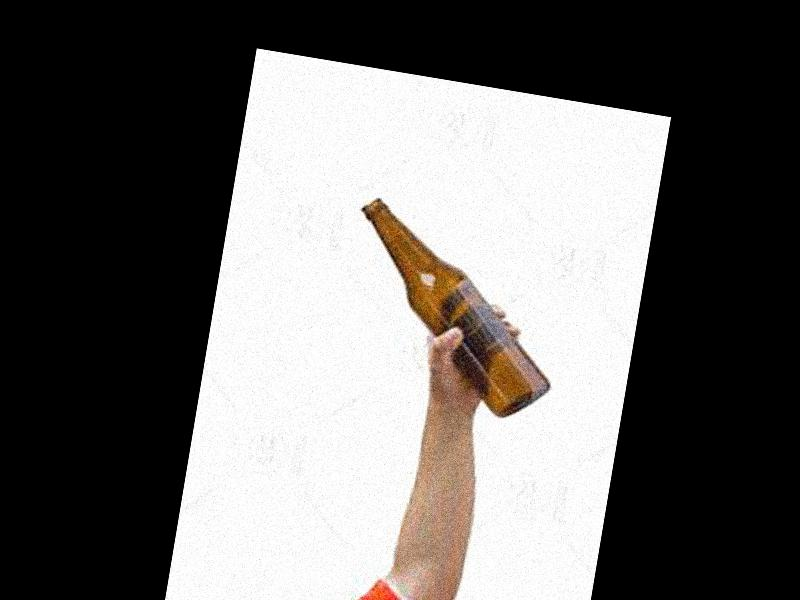Beer: (332, 196, 577, 424)
